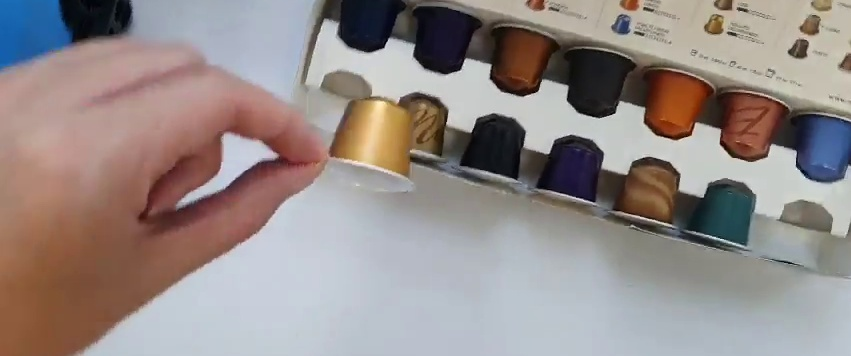capsule_8: (314, 93, 417, 195)
